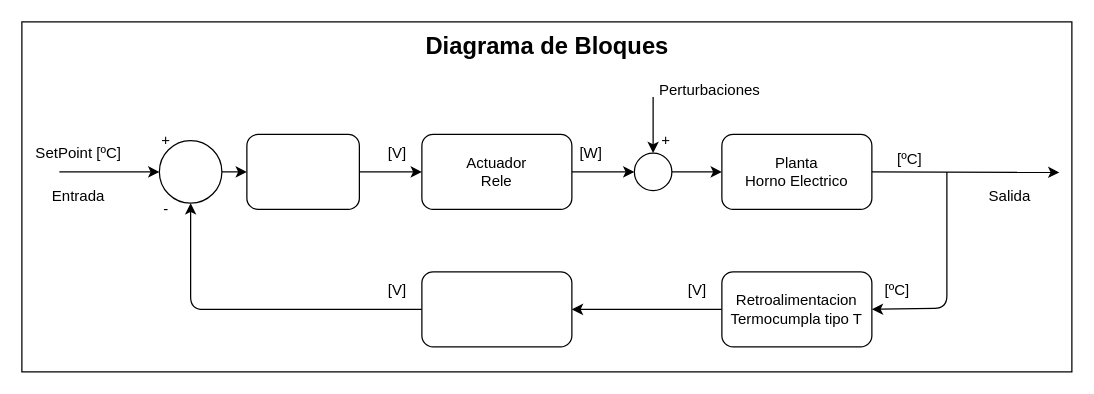
Image size: 1094x394. Some labels were removed from this diagram. The centre of each missing label's shape, as x and y in pixels:
Acondicionador de señal: point (496, 309)
PI(s): point (302, 171)
